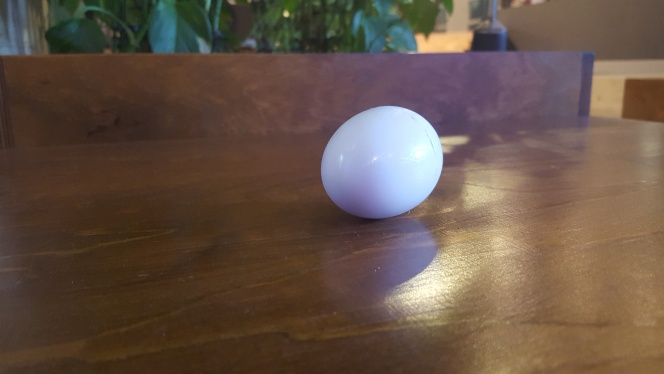egg: (319, 104, 446, 219)
